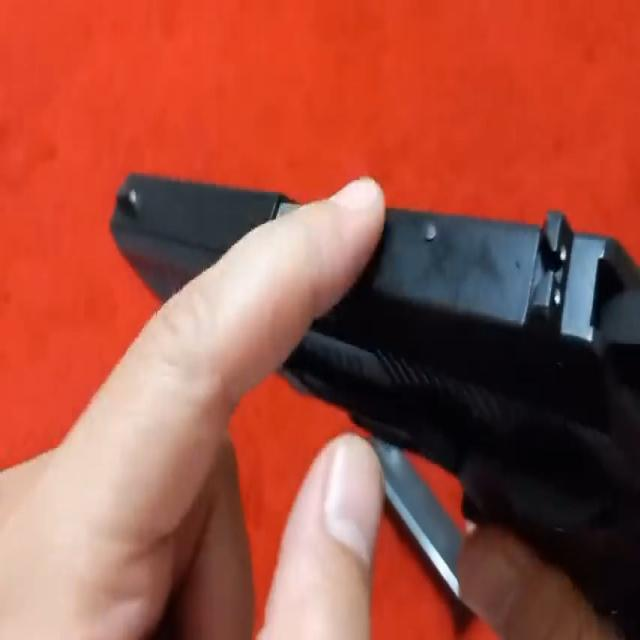handgun: (108, 137, 640, 534)
